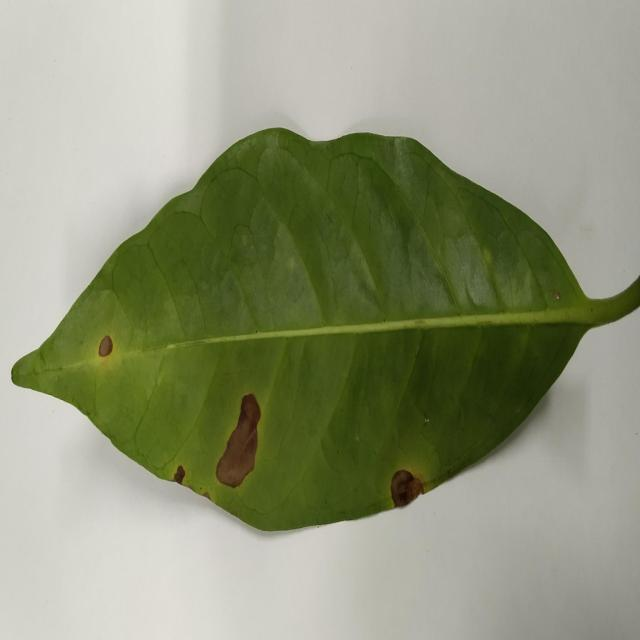Enfermedad-Mancha-de-hierro: (10, 127, 640, 536)
